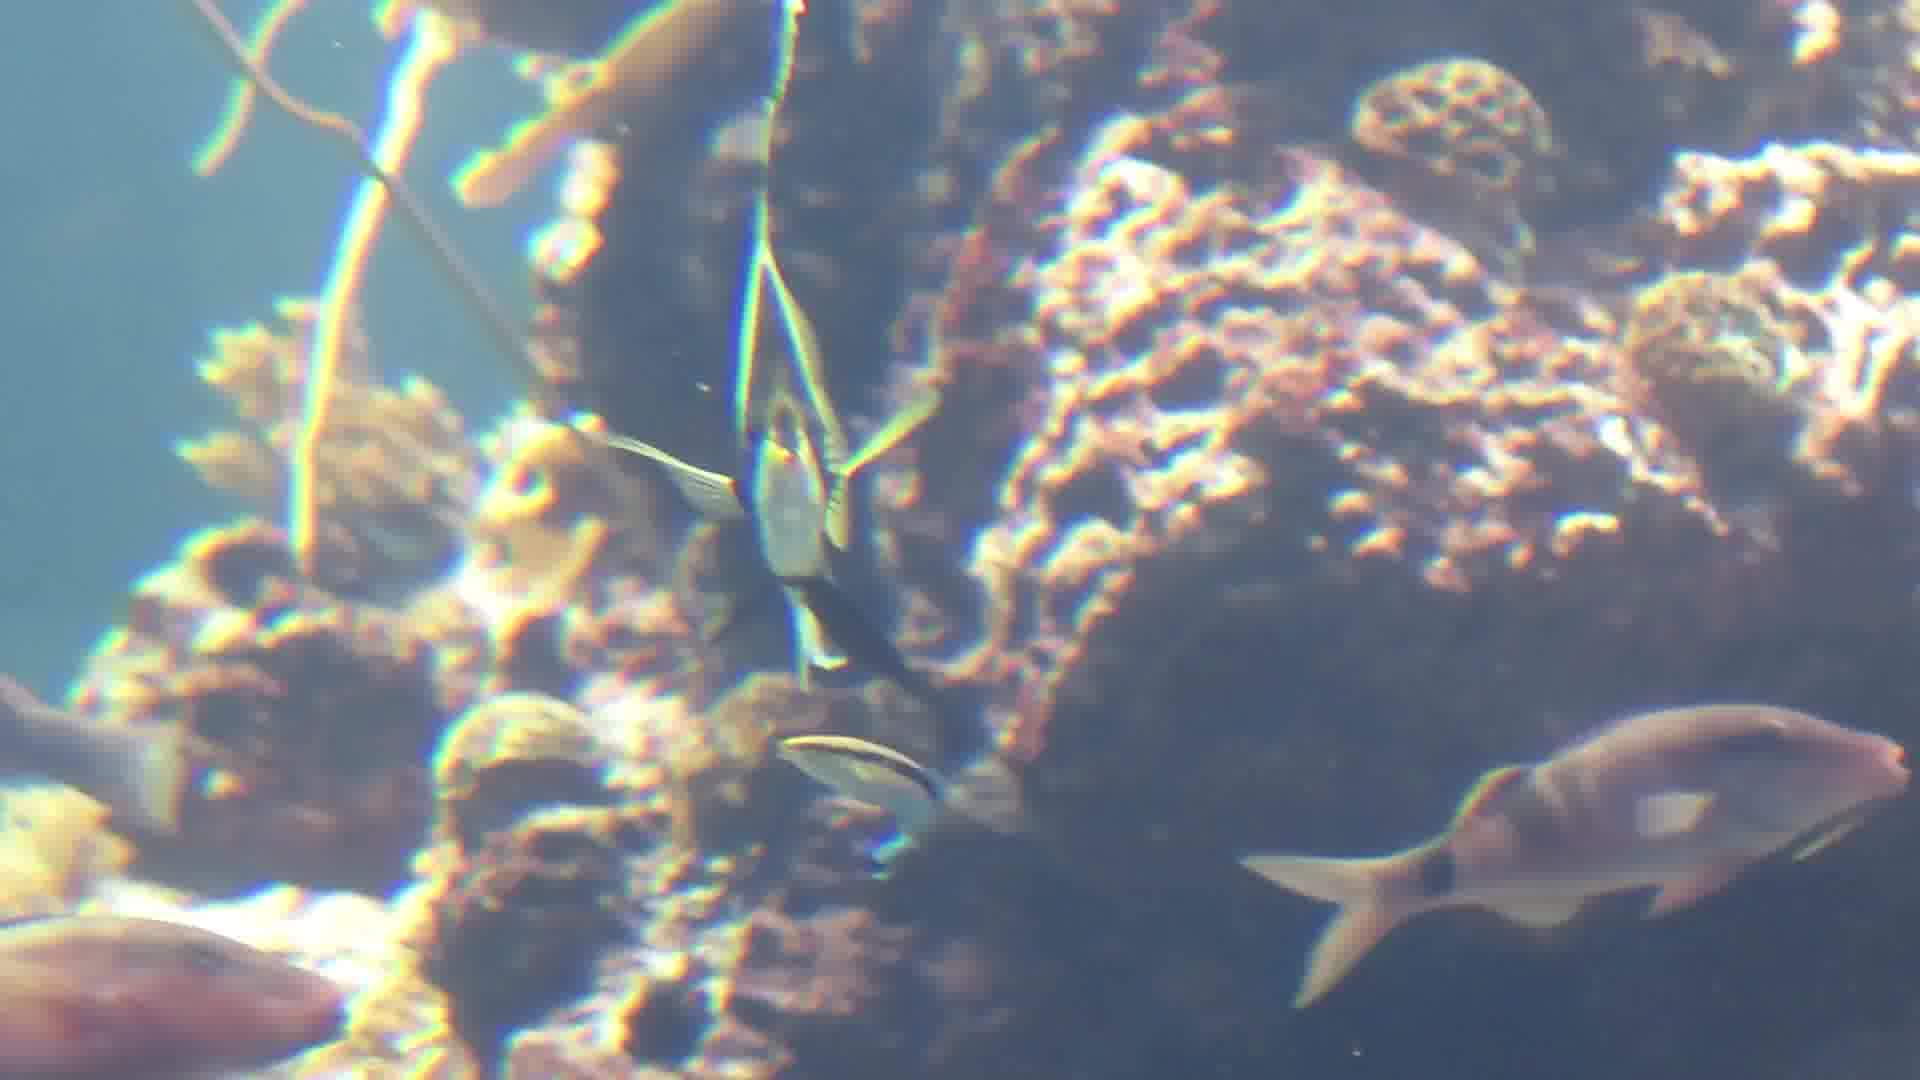Heniochus chrysostomus: (564, 1, 986, 698)
